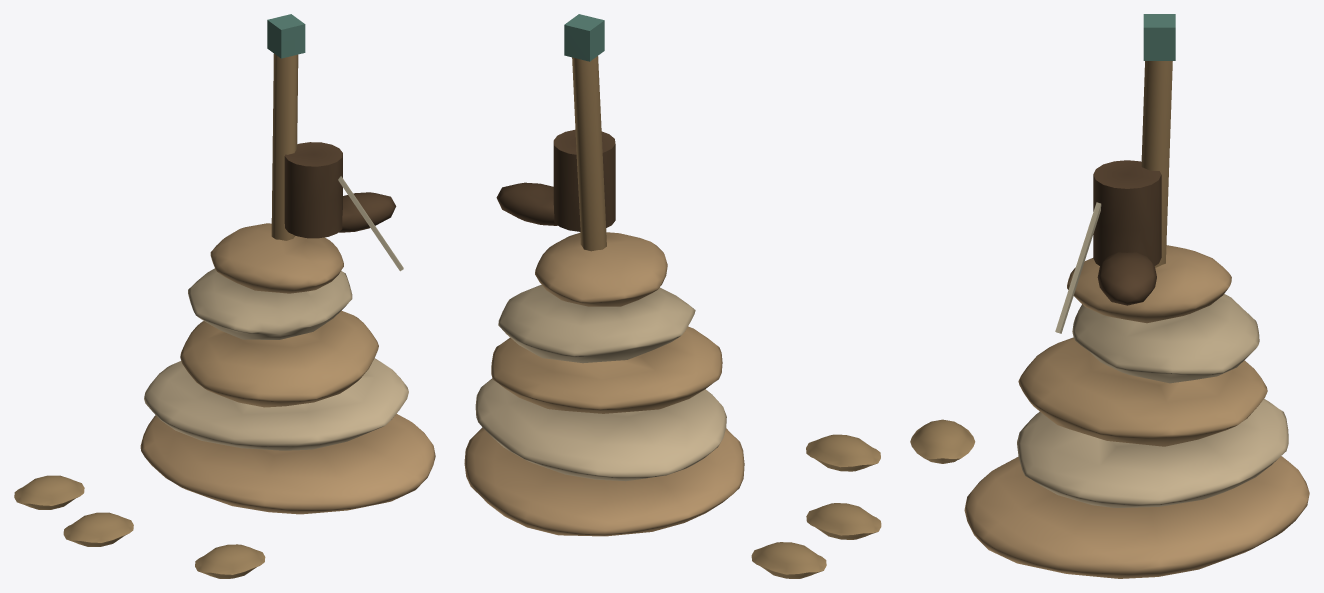
Rendered from survey_cairn_b.glb.
3 renders of one model, left to right at view 1: azimuth 30°, elevation 25°; view 2: azimuth 150°, elevation 25°; view 3: azimuth 270°, elevation 25°, orthographic. The views are drawn at different scales.
Visible parts, largest first — view 1: Surface; view 2: Surface; view 3: Surface.
Boxes of the visible parts, box(x1,y1,x2,y2) form: Surface: box(14, 14, 435, 578); Surface: box(464, 14, 881, 578); Surface: box(910, 14, 1309, 578).
Bounding box in the file's own units: 1.04 × 1.25 × 0.8679.
